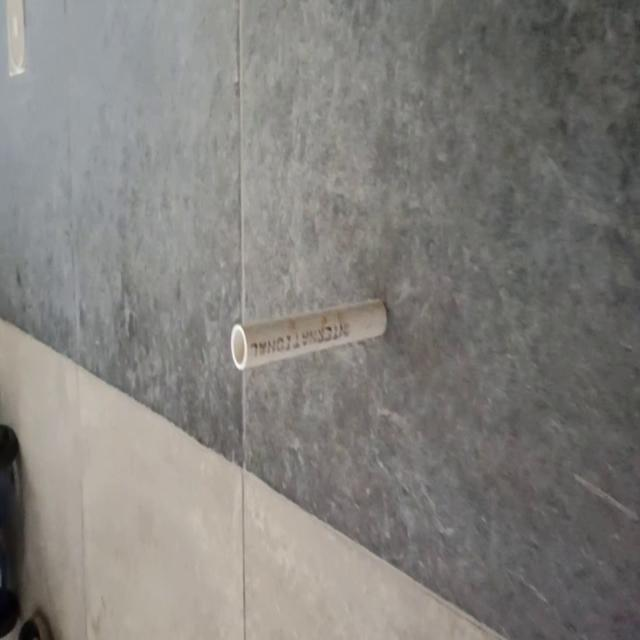Cube: (230, 295, 388, 372)
